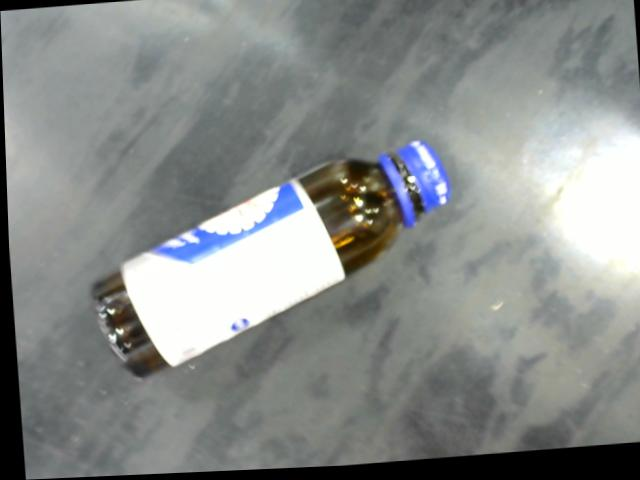glass: (87, 141, 450, 386)
